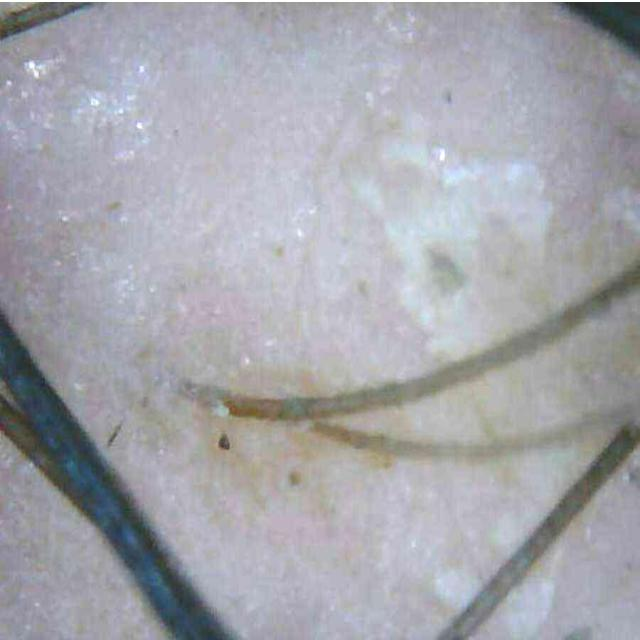d: (440, 155, 552, 263)
